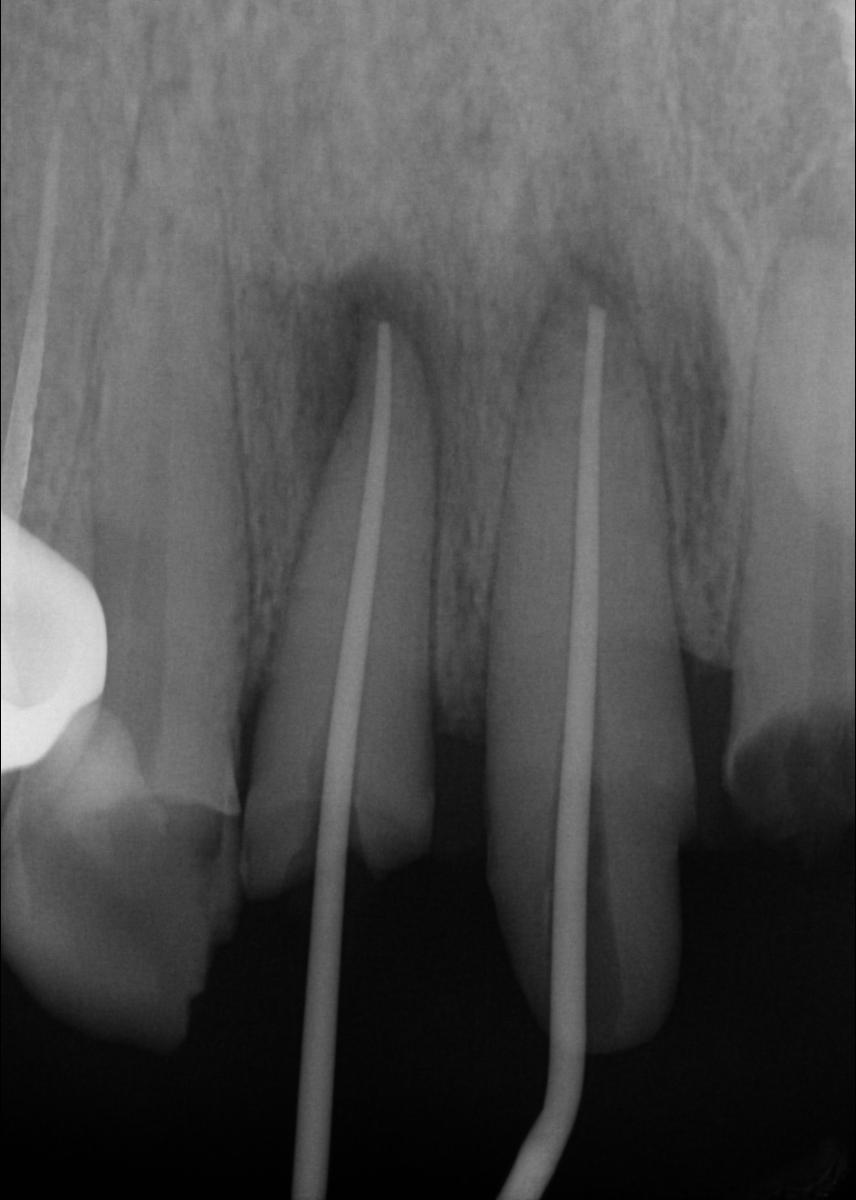Furcation Involvement: (505, 116, 744, 546), (291, 257, 454, 494)
